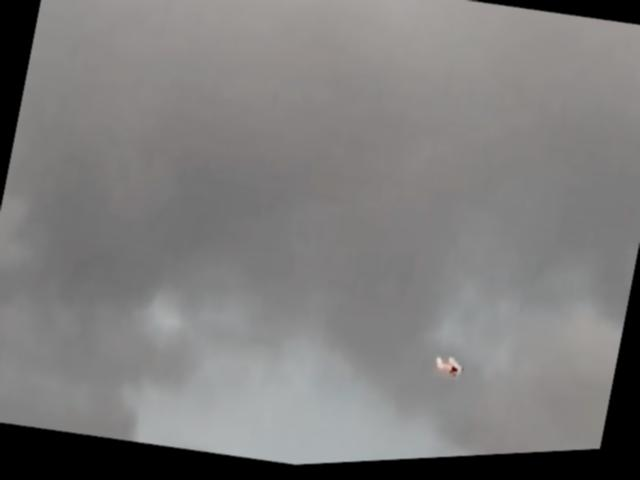plane: (433, 358, 466, 386)
